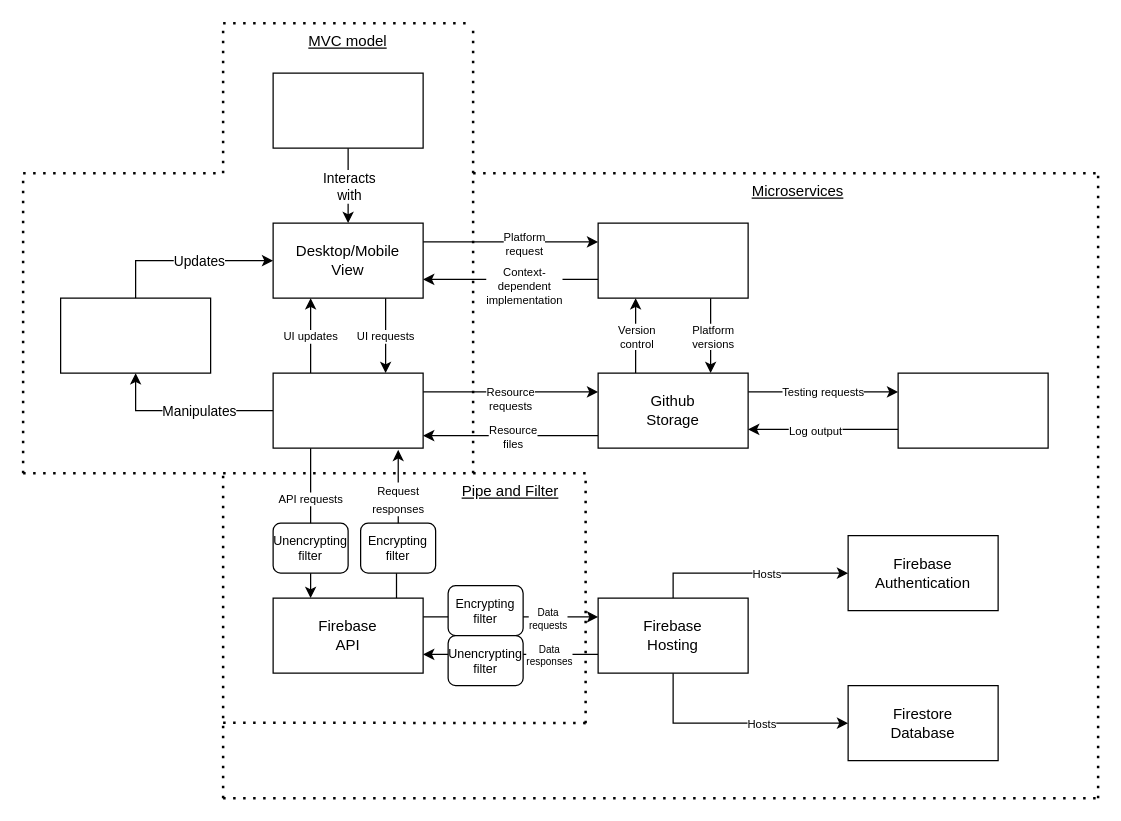
Image size: 1121x821. Some labels were removed from this diagram. Each missing label, with the centre of its shape:
"App Model" goes at (135,335).
"Client" goes at (347,110).
"Desktop/Mobile Controller" goes at (347,410).
"Flutter Building" goes at (672,260).
"Github CI/CD" goes at (972,410).
